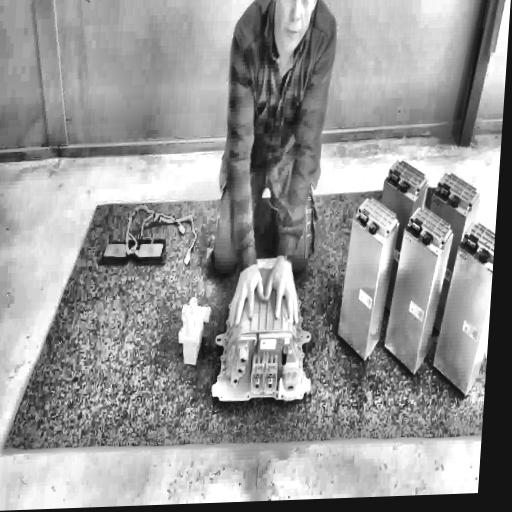battery_module: (384, 207, 454, 375), (432, 219, 495, 398), (337, 195, 399, 360), (433, 170, 480, 218), (385, 158, 429, 201)
bms_unit: (211, 255, 321, 408)
connector: (177, 293, 212, 366)
high_volt_cable: (118, 192, 201, 267)
